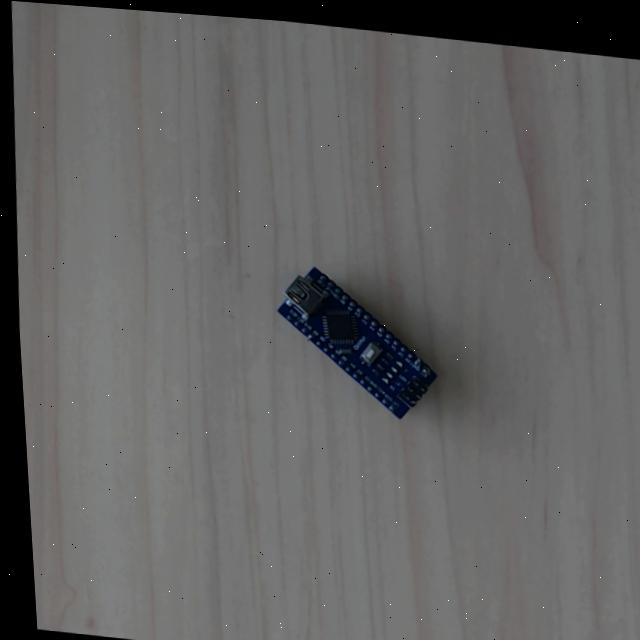Arduino-Nano: (272, 261, 440, 420)
